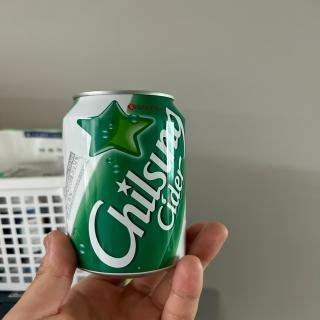chilsung: (60, 87, 186, 279)
